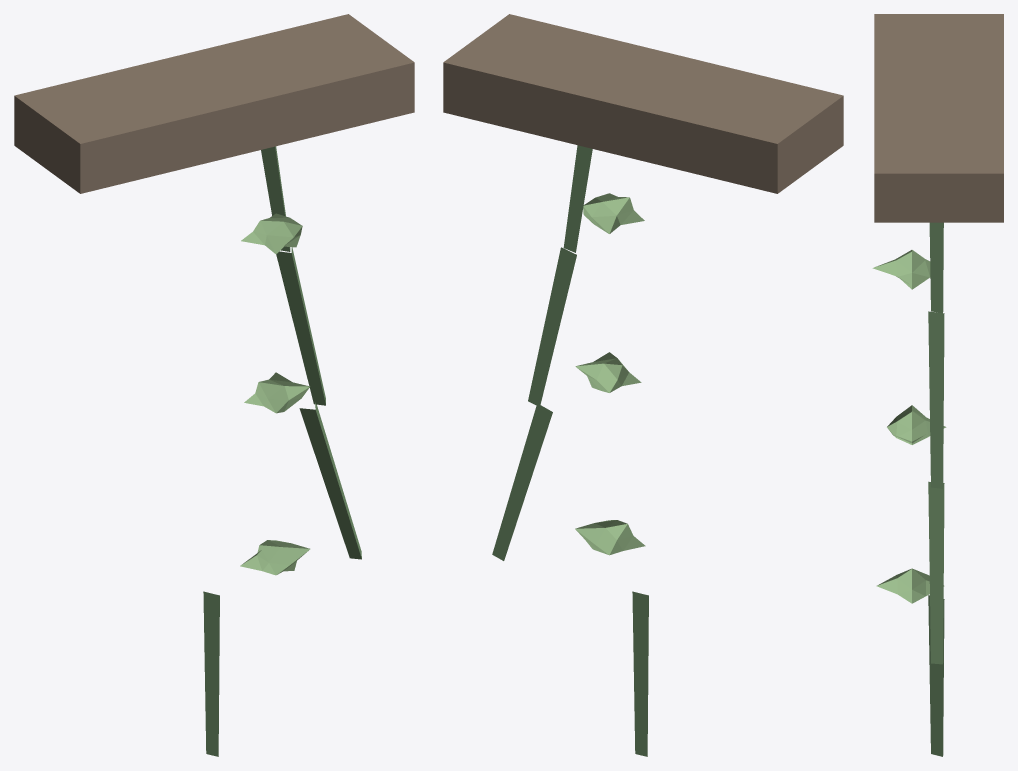
The model's file is vine_v12.glb.
3 views of the same model, side by side, from view 1: azimuth 30°, elevation 25°; view 2: azimuth 150°, elevation 25°; view 3: azimuth 270°, elevation 25° (orthographic). The views are drawn at different scales.
Visible parts, largest first — view 1: lod0; view 2: lod0; view 3: lod0.
Part boxes in pixels (x1=…): lod0: x1=14, y1=14, x2=414, y2=756; lod0: x1=443, y1=14, x2=843, y2=756; lod0: x1=872, y1=14, x2=1003, y2=756.
Size of what is drawn, in the model's own units: 0.7 by 1.35 by 0.2441.
